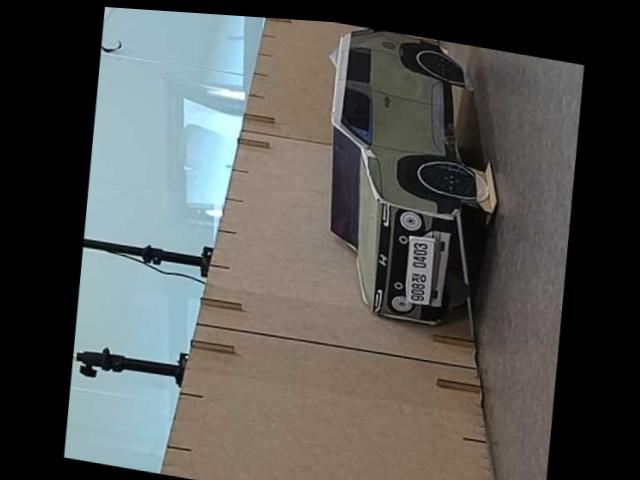car: (302, 20, 509, 342)
id: (395, 233, 438, 313)
